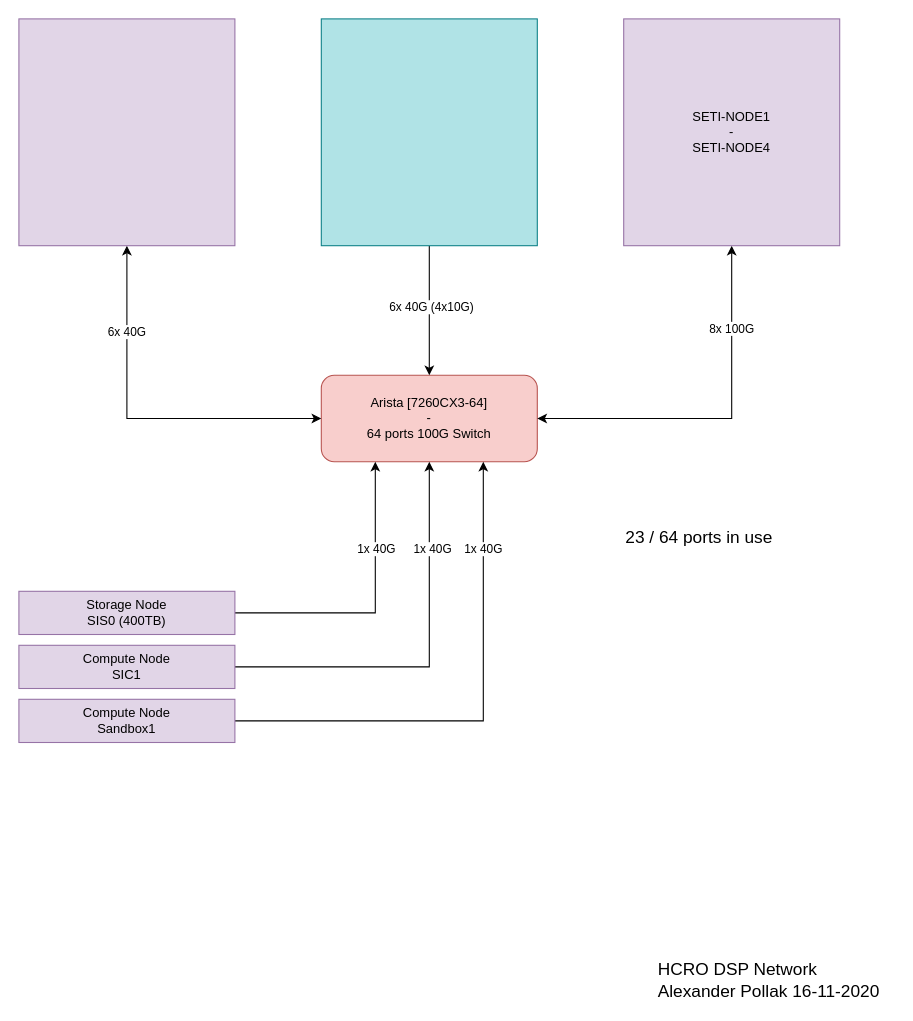
This 913x1021 diagram has some shape labels left out. The centre of each missing label's shape, as x and y in pixels:
FRB-NODE1 - FRB-NODE6: pixel 126 132
FRB-SNAP1 - FRB-SANP12: pixel 428 132
